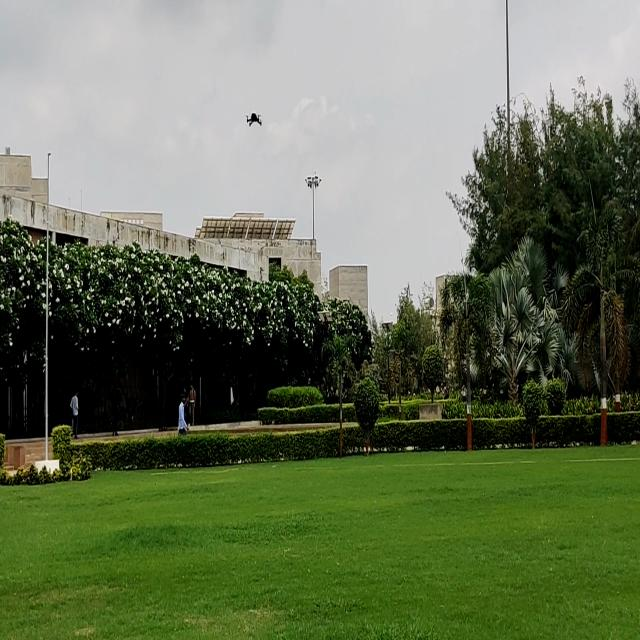drone: (241, 105, 271, 126)
